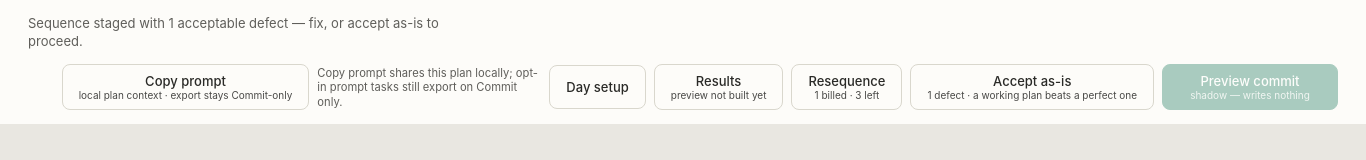
good-enough override (locked decision 24) › pending acceptable defects disable preview and expose one Accept as-is control
Expected: the text "Sequence staged with 1 acceptable defect — fix, or accept as-is to proceed." is shown, [28,14,448,50]
Expected: the button "Preview commit shadow — writes nothing" is disabled, [1162,64,1338,110]
Click the button "Accept as-is": (1032, 87) [910,64,1154,110]
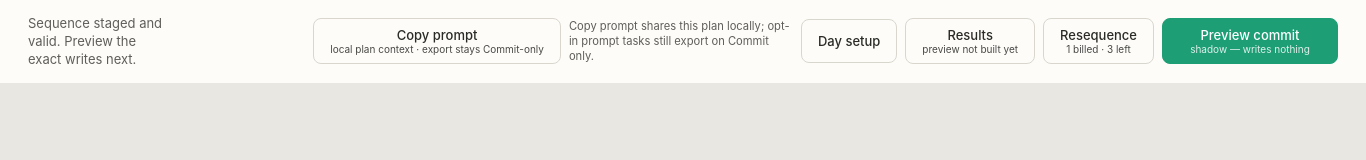
Result: the button "Preview commit shadow — writes nothing" is enabled at [1162,18,1338,64]
